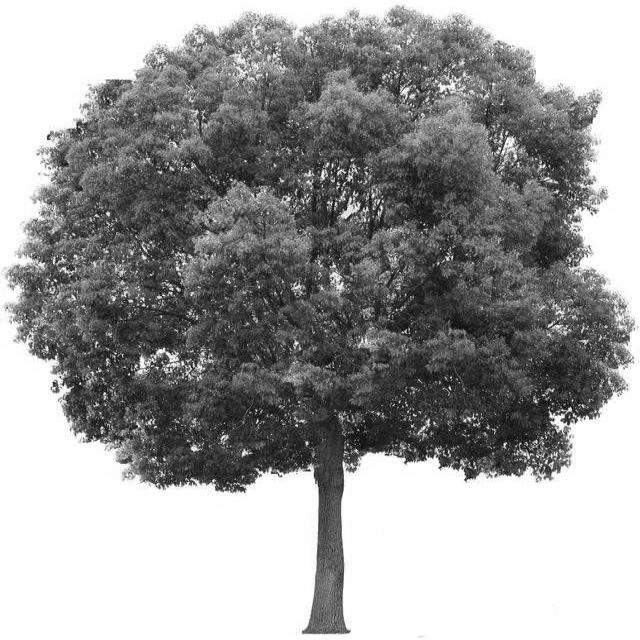Tree: (9, 9, 630, 632)
